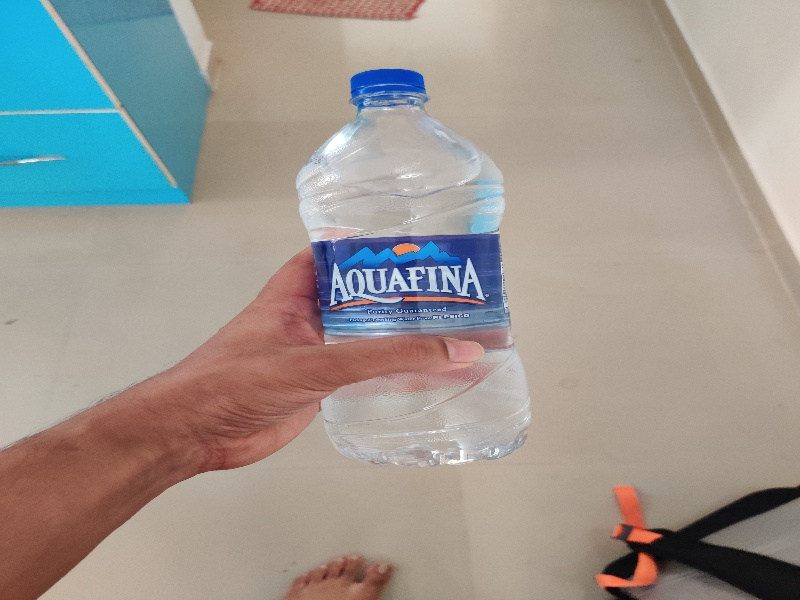bottle: (285, 64, 545, 464)
